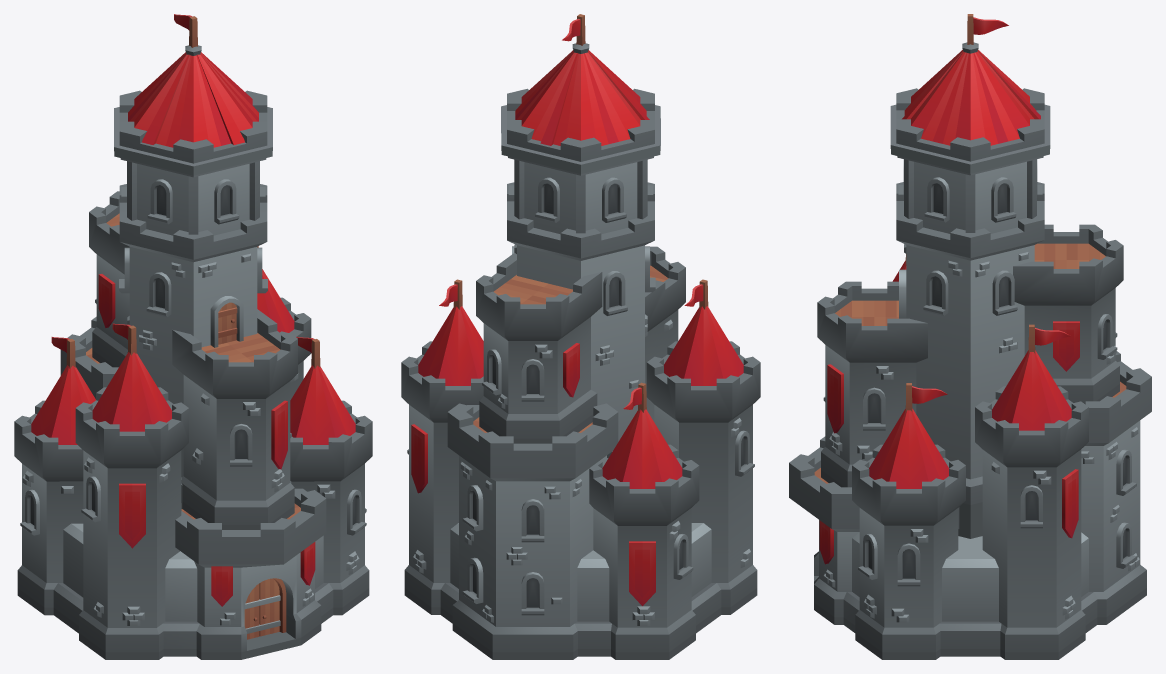
File: building_castle_red.gltf
3 renders of one model, left to right at view 1: azimuth 30°, elevation 25°; view 2: azimuth 150°, elevation 25°; view 3: azimuth 270°, elevation 25°, orthographic.
Parts seen in each view (by area): view 1: building_castle_red; view 2: building_castle_red; view 3: building_castle_red.
Part boxes in pixels (x1,y1,x2,y2): building_castle_red: (14, 14, 372, 659); building_castle_red: (401, 14, 760, 659); building_castle_red: (789, 14, 1151, 659).
Size of the model in its own units: 1.98 by 3.98 by 2.26.
Materials: 1 (1 with a texture image).
